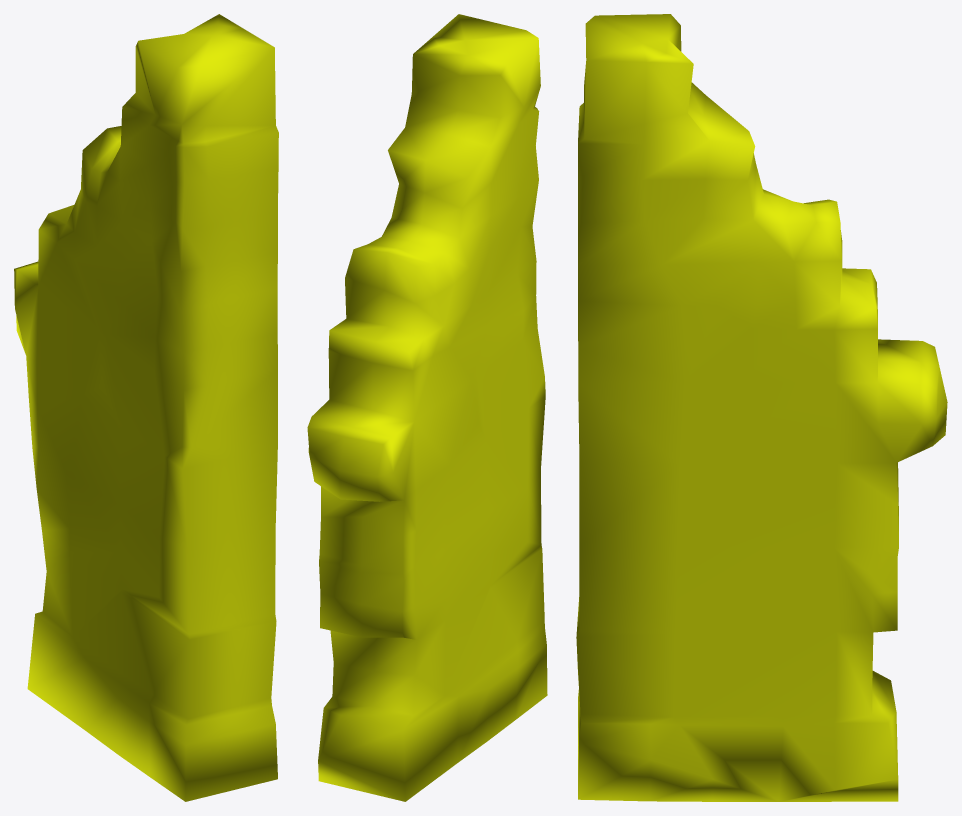
Rendered from Wall_Break_01B_Lod0.fbx.
The picture shows the model from 3 angles, left to right: view 1: azimuth 30°, elevation 25°; view 2: azimuth 150°, elevation 25°; view 3: azimuth 270°, elevation 25°; orthographic projection. The views are drawn at different scales.
Visible parts, largest first — view 1: Wall_Break_01B_Lod0; view 2: Wall_Break_01B_Lod0; view 3: Wall_Break_01B_Lod0.
Part boxes in pixels (<box>): Wall_Break_01B_Lod0: <box>14,14,278,801</box>; Wall_Break_01B_Lod0: <box>307,14,547,801</box>; Wall_Break_01B_Lod0: <box>576,14,947,801</box>.
Bounding box in the file's own units: 174 × 1221 × 554.
